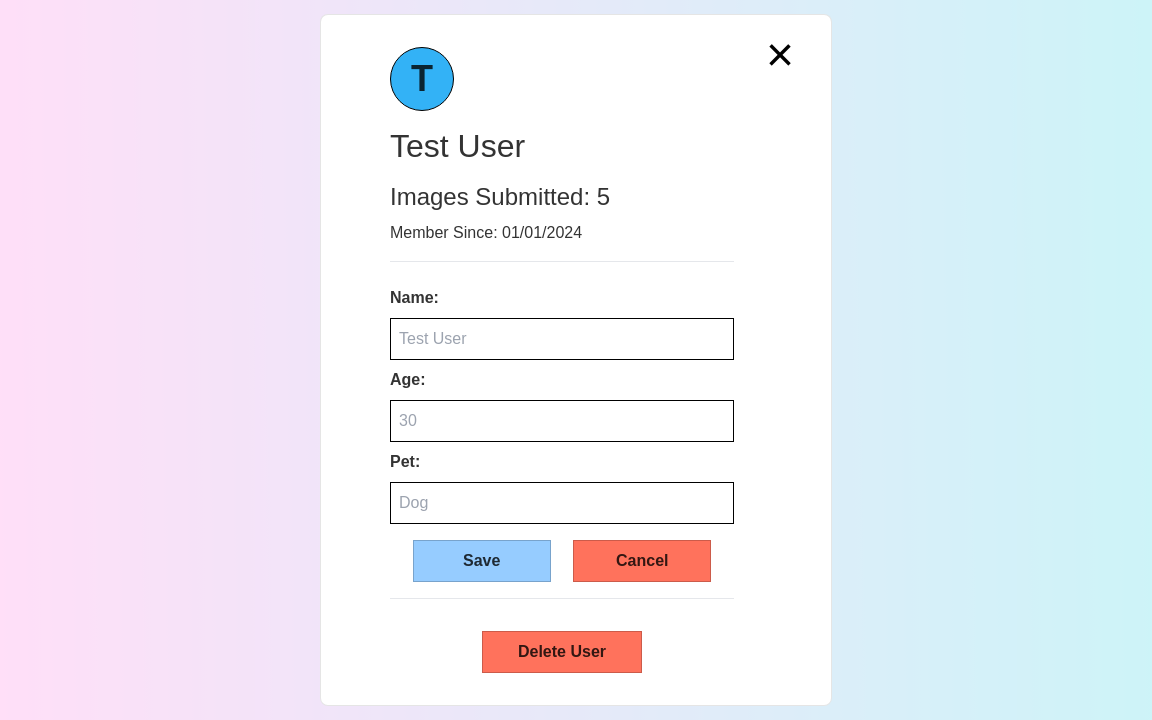
Scenario: Given the ProfileModal component › shows confirmation view and hides delete button after delete is clicked
This screenshot has width=1152, height=720.
What coordinates should you click on to do the following:
click the button with test id "delete"
I would click on:
 (562, 652)
Its box is left=482, top=631, right=642, bottom=673.
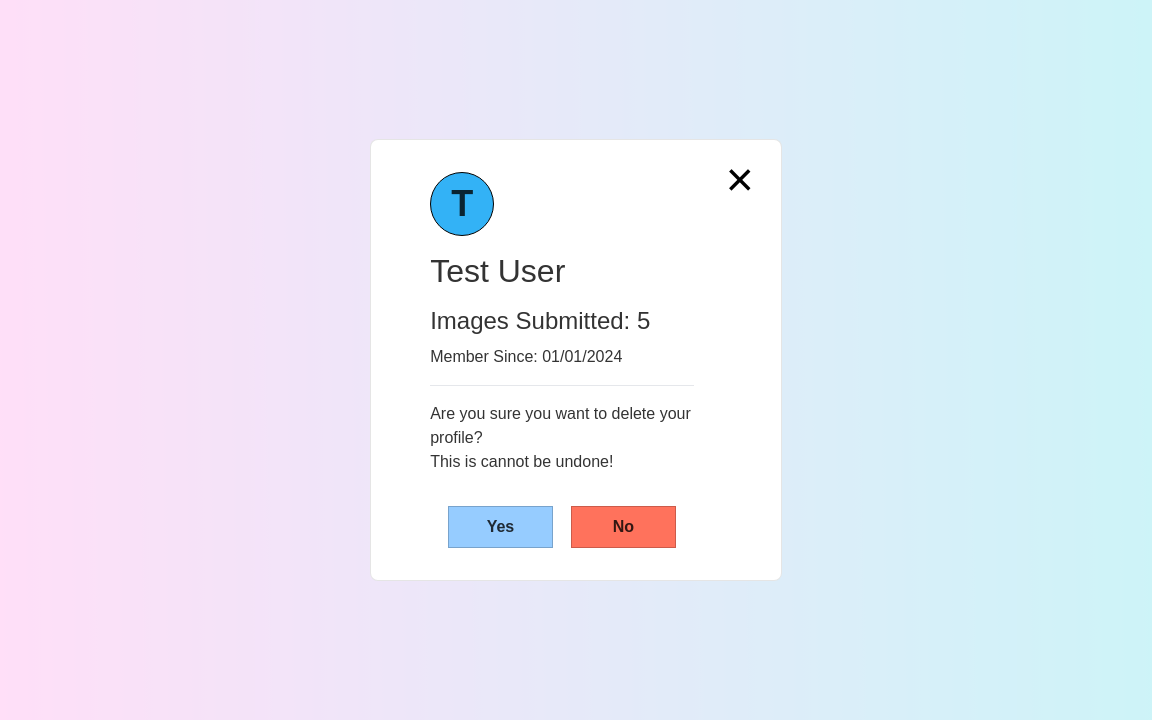
expect the button with test id "confirm" is shown: met, box left=448, top=506, right=553, bottom=548
